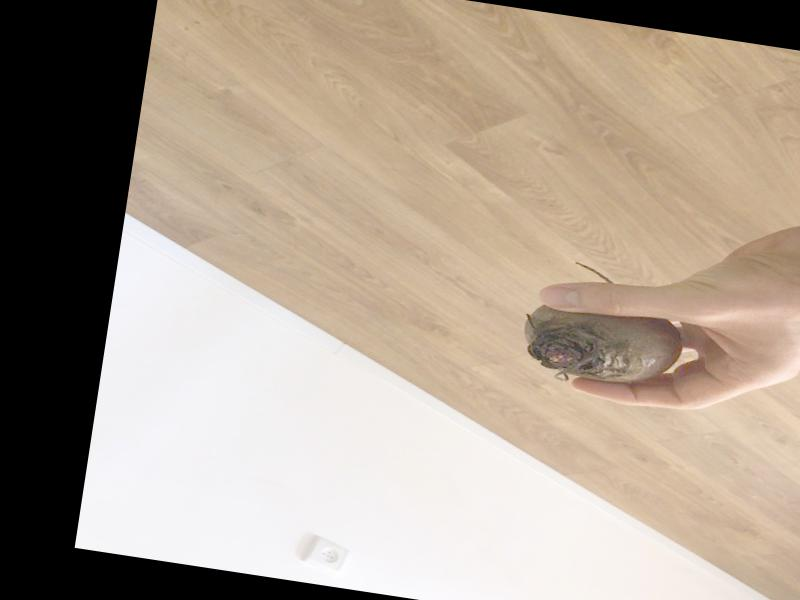Beet: (516, 256, 691, 394)
